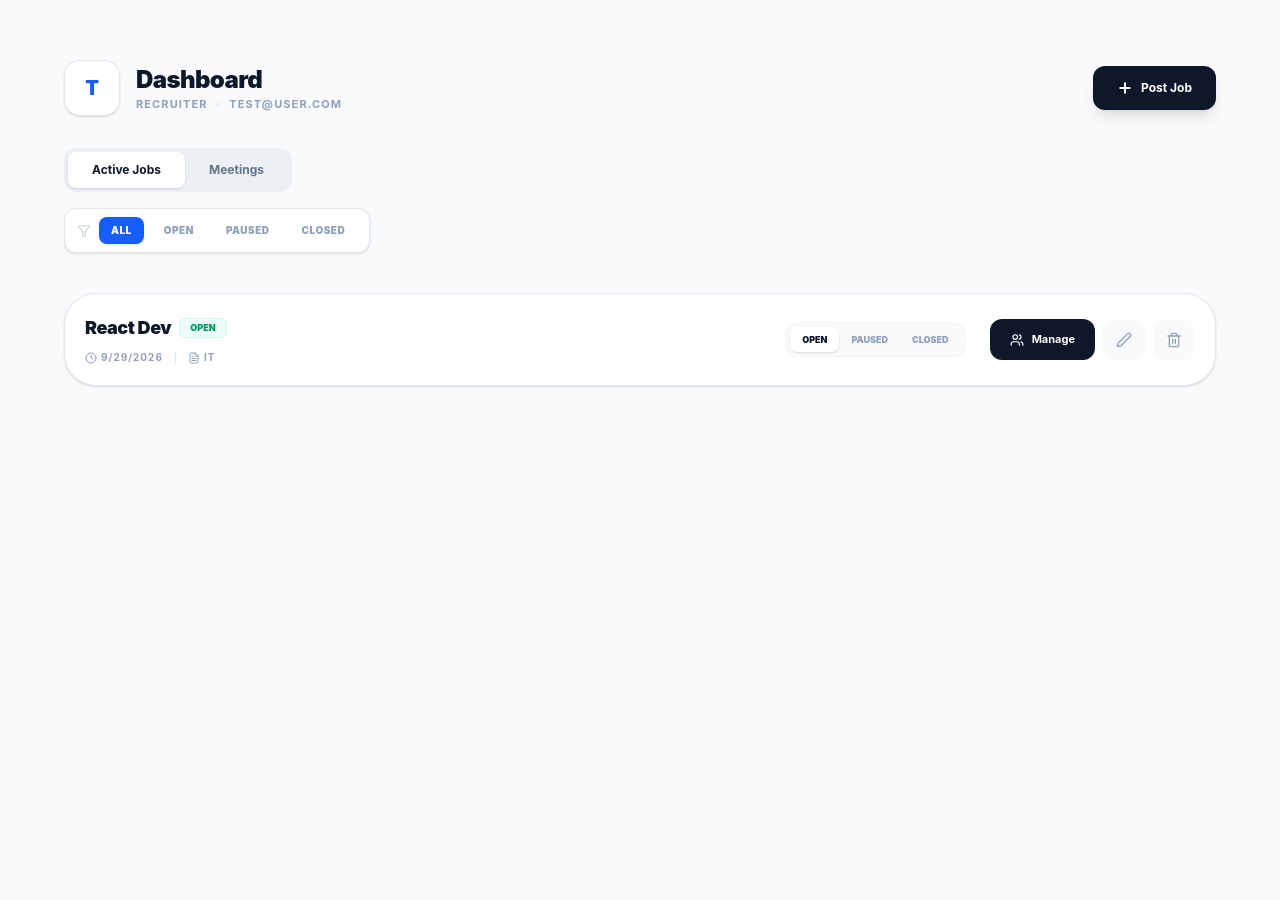
Test: Dashboard Page Component › Recruiter can open reschedule modal
Click the button "Meetings" at (236,170), box [185,152,288,188]
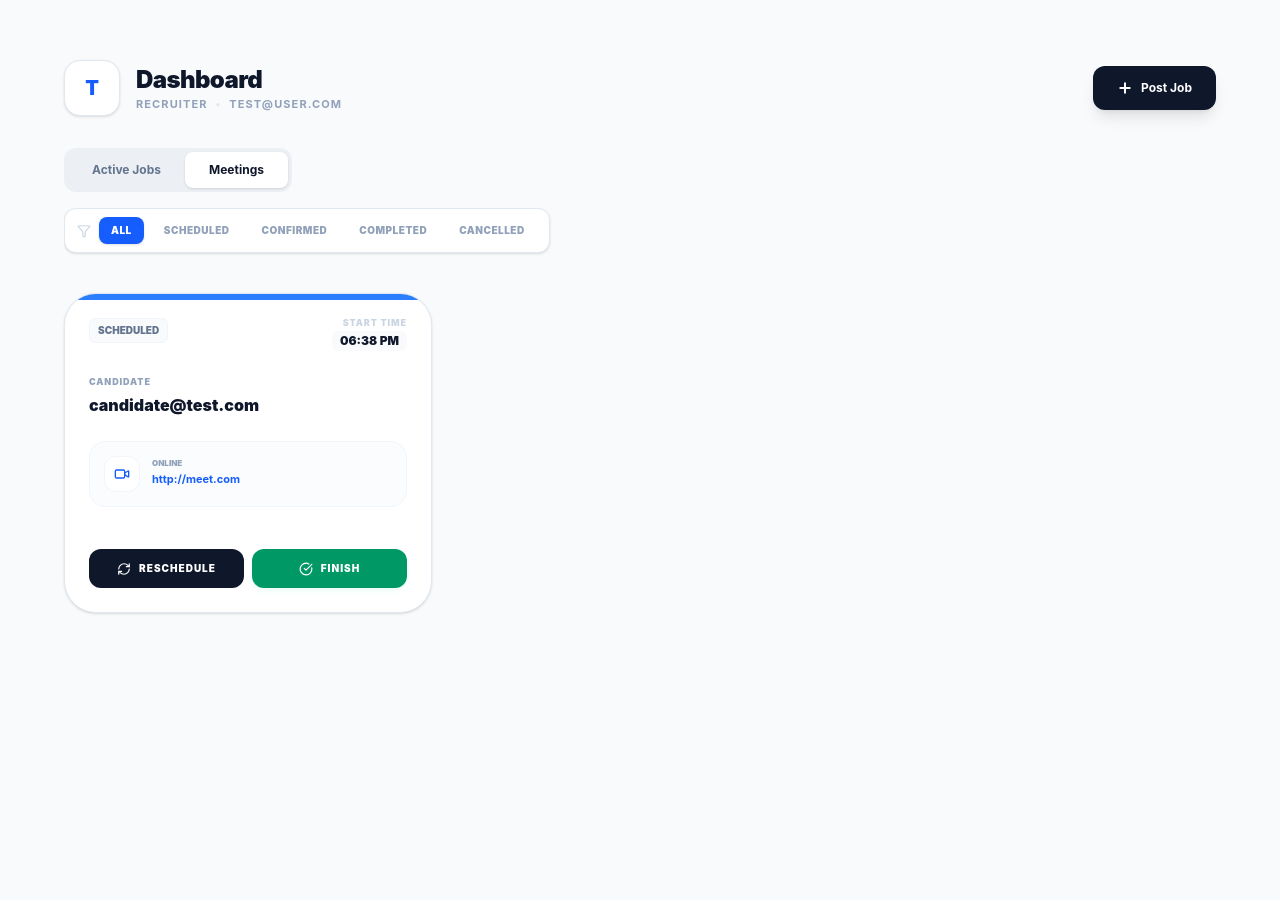
Click the button "Reschedule" at (166,568), box [89,549,244,588]
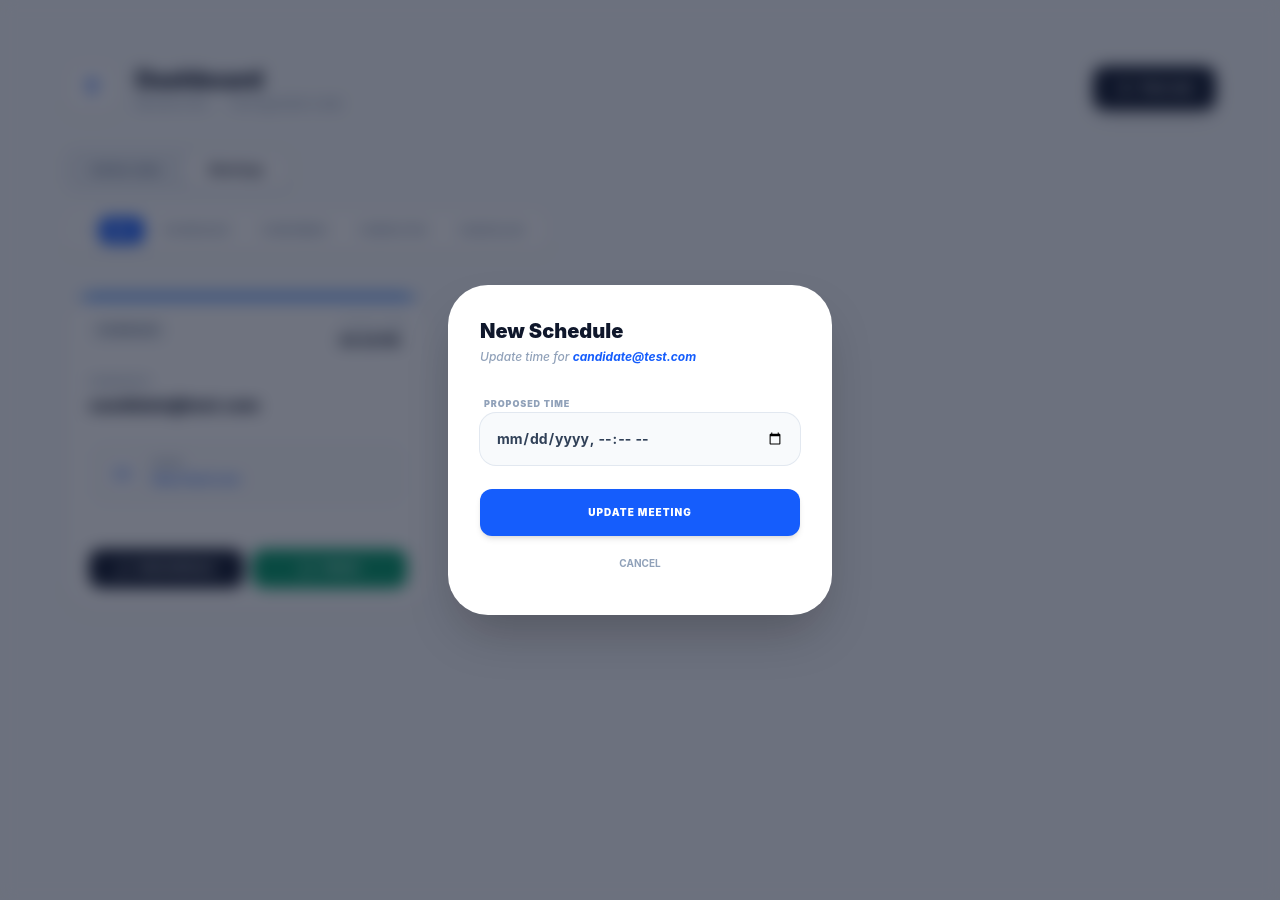
Expected: the heading "New Schedule" is shown, [480,319,623,343]
